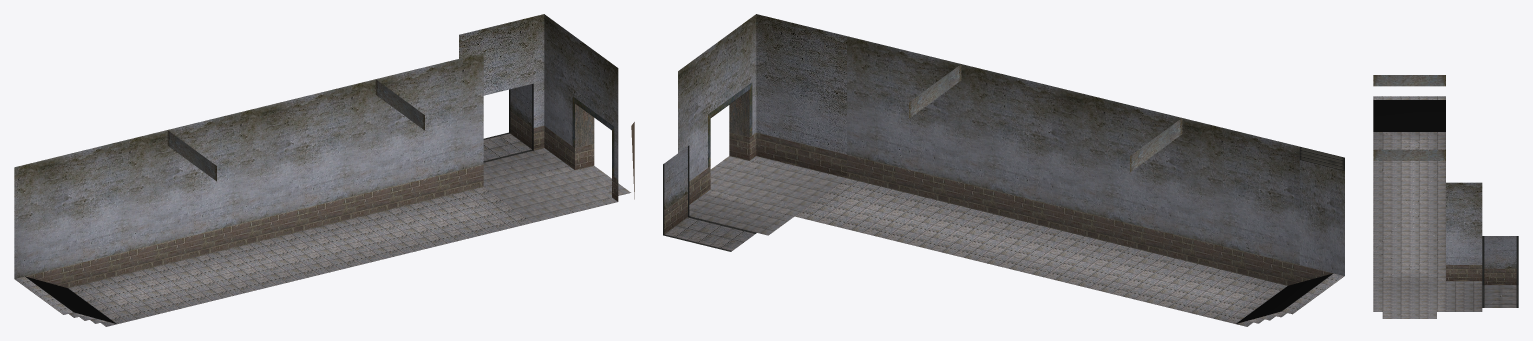
Rendered from M11Z2_SCUDHouse02_L.glb.
3 renders of one model, left to right at view 1: azimuth 30°, elevation 25°; view 2: azimuth 150°, elevation 25°; view 3: azimuth 270°, elevation 25°, orthographic. The views are drawn at different scales.
Visible parts, largest first — view 1: M11Z2_SCUDHOUSE02_L; view 2: M11Z2_SCUDHOUSE02_L; view 3: M11Z2_SCUDHOUSE02_L.
Boxes of the visible parts, x1,y1,x2,y2 form: M11Z2_SCUDHOUSE02_L: (14,14,634,326); M11Z2_SCUDHOUSE02_L: (663,14,1344,326); M11Z2_SCUDHOUSE02_L: (1373,75,1518,318).
Size of the model in its own units: 26.9 by 6.49 by 8.
9 materials, 8 textured.
